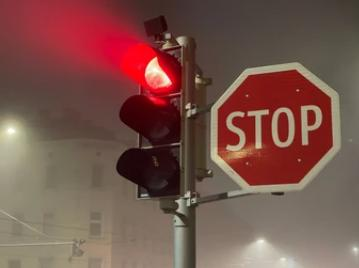red_light: (116, 45, 184, 199)
